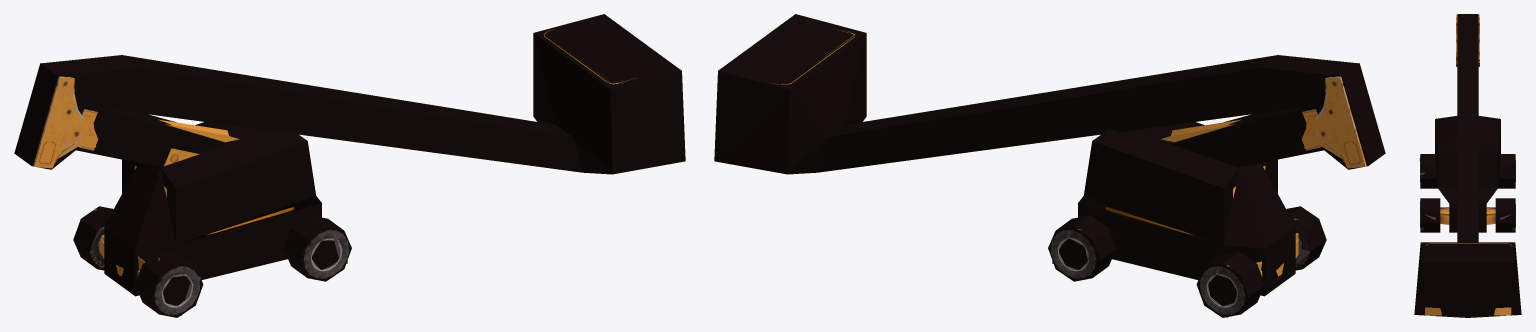
Rendered from boom_lift2.dae.
The picture shows the model from 3 angles, left to right: view 1: azimuth 30°, elevation 25°; view 2: azimuth 150°, elevation 25°; view 3: azimuth 270°, elevation 25°; orthographic projection. The views are drawn at different scales.
Visible parts, largest first — view 1: Colmesh-1, boom_lift2_a400, boom_lift2_a100, boom_lift2_a200; view 2: Colmesh-1, boom_lift2_a400, boom_lift2_a200, boom_lift2_a100; view 3: Colmesh-1, boom_lift2_a400, boom_lift2_a200, boom_lift2_a100.
Boxes of the visible parts, x1,y1,x2,y2 form: Colmesh-1: (14,14,685,317); boom_lift2_a400: (34,32,623,314); boom_lift2_a100: (35,63,627,315); boom_lift2_a200: (33,30,598,315); Colmesh-1: (714,14,1385,317); boom_lift2_a400: (775,31,1365,314); boom_lift2_a200: (807,36,1366,313); boom_lift2_a100: (822,30,1364,317); Colmesh-1: (1414,14,1521,317); boom_lift2_a400: (1420,16,1515,315); boom_lift2_a200: (1420,18,1515,243); boom_lift2_a100: (1419,14,1515,230).
Size of the model in its own units: 10.94 by 2.67 by 4.05.
